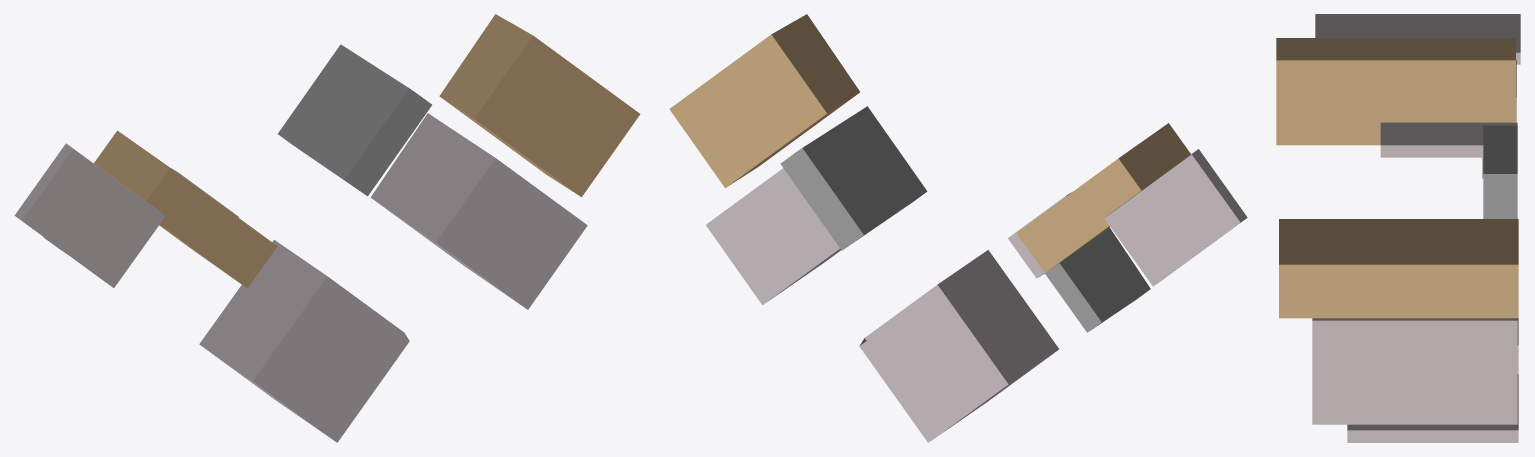
3 renders of one model, left to right at view 1: azimuth 30°, elevation 25°; view 2: azimuth 150°, elevation 25°; view 3: azimuth 270°, elevation 25°, orthographic. The views are drawn at different scales.
Visible parts, largest first — view 1: 0_2_3_2_2_0_2_2_0; view 2: 0_2_3_2_2_0_2_2_0; view 3: 0_2_3_2_2_0_2_2_0.
Part boxes in pixels (x1=…): 0_2_3_2_2_0_2_2_0: x1=14, y1=14, x2=640, y2=442; 0_2_3_2_2_0_2_2_0: x1=669, y1=14, x2=1247, y2=442; 0_2_3_2_2_0_2_2_0: x1=1276, y1=14, x2=1520, y2=442.
Bounding box in the file's own units: 58.43 × 34.89 × 21.43.
